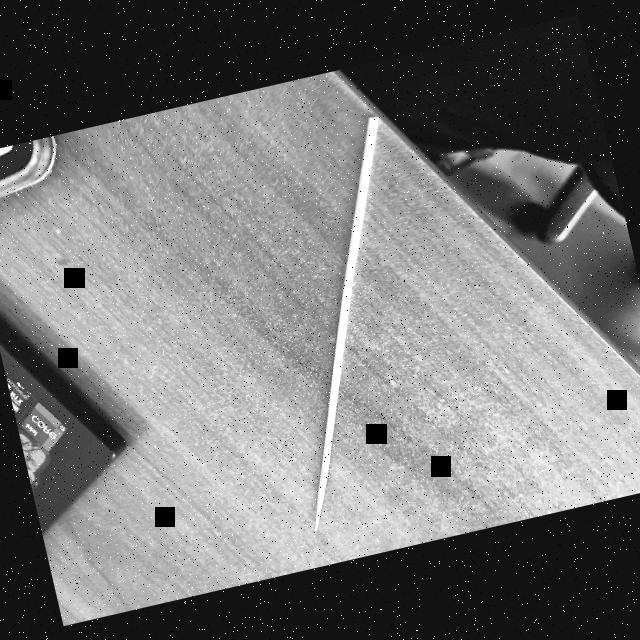stick: (205, 100, 490, 552)
